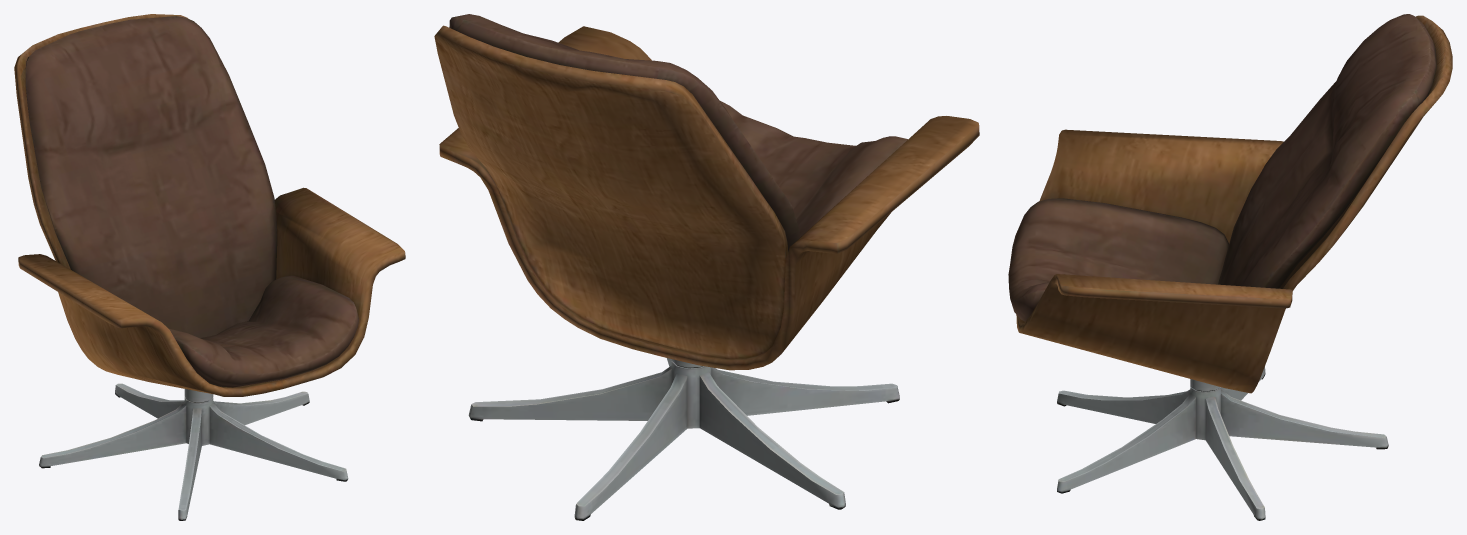
The model's file is poltrona-couro.glb.
3 views of the same model, side by side, from view 1: azimuth 30°, elevation 25°; view 2: azimuth 150°, elevation 25°; view 3: azimuth 270°, elevation 25° (orthographic). The views are drawn at different scales.
Parts seen in each view (by area): view 1: mid_century_lounge_chair; view 2: mid_century_lounge_chair; view 3: mid_century_lounge_chair.
Boxes of the visible parts, box(x1,y1,x2,y2) form: mid_century_lounge_chair: box(14, 14, 405, 520); mid_century_lounge_chair: box(434, 14, 979, 520); mid_century_lounge_chair: box(1008, 14, 1452, 520).
Bounding box in the file's own units: 1.01 × 1.17 × 1.19.
Materials: 1 (1 with a texture image).
